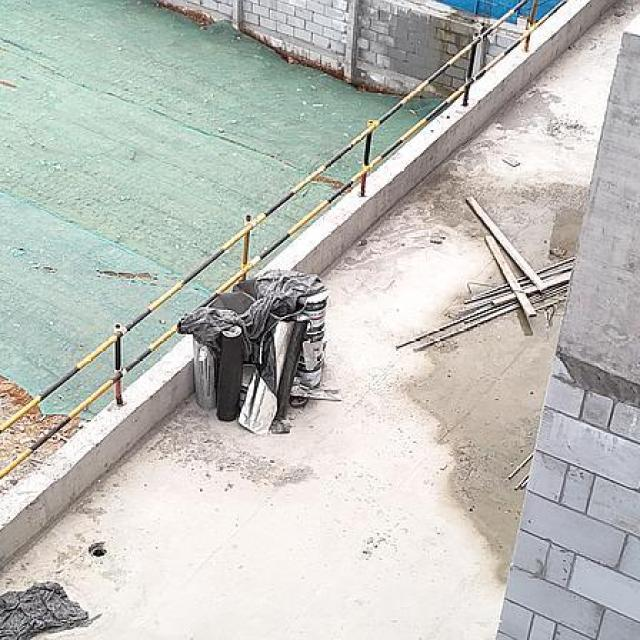edge_guardrail: (0, 0, 581, 484)
